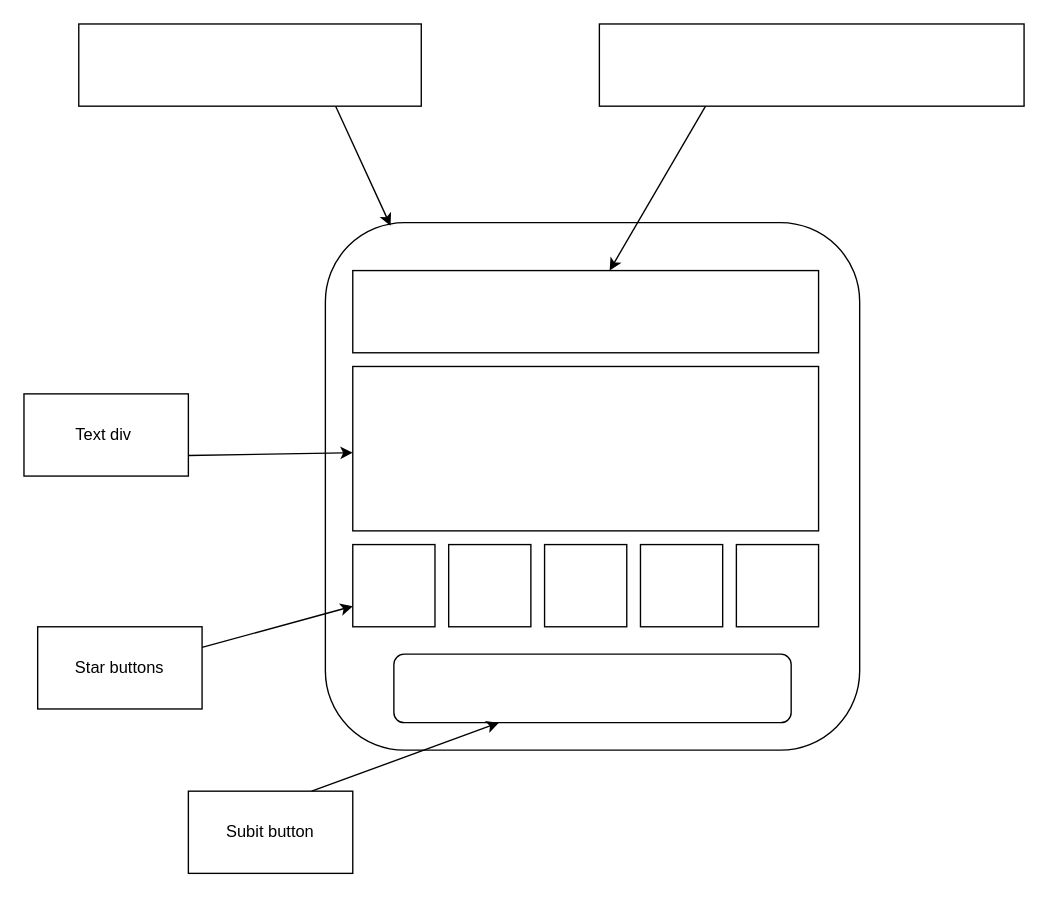
The diagram is 1048 pixels wide and 897 high, and some of its shapes have lost their labels. The centre of each missing label's shape, as x and y in pixels:
Div for favourite icon set to start 1, end 5.: pixel 811 64
Div id container display grid: pixel 249 64
